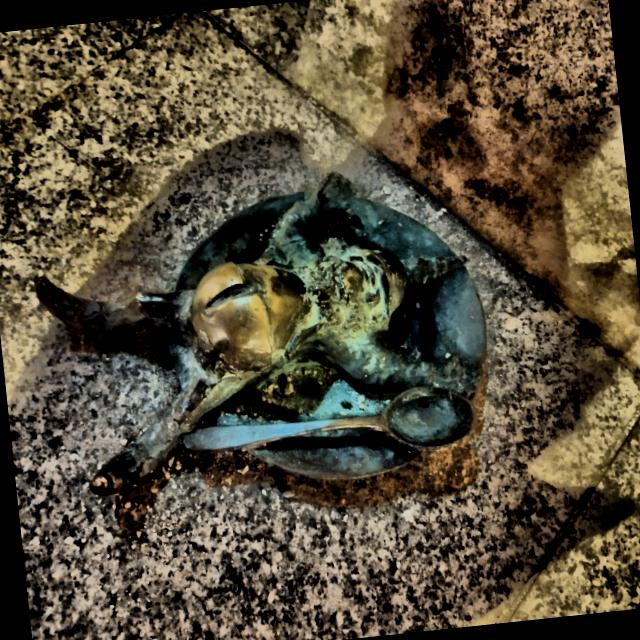Obiezysmak: (35, 175, 486, 495)
